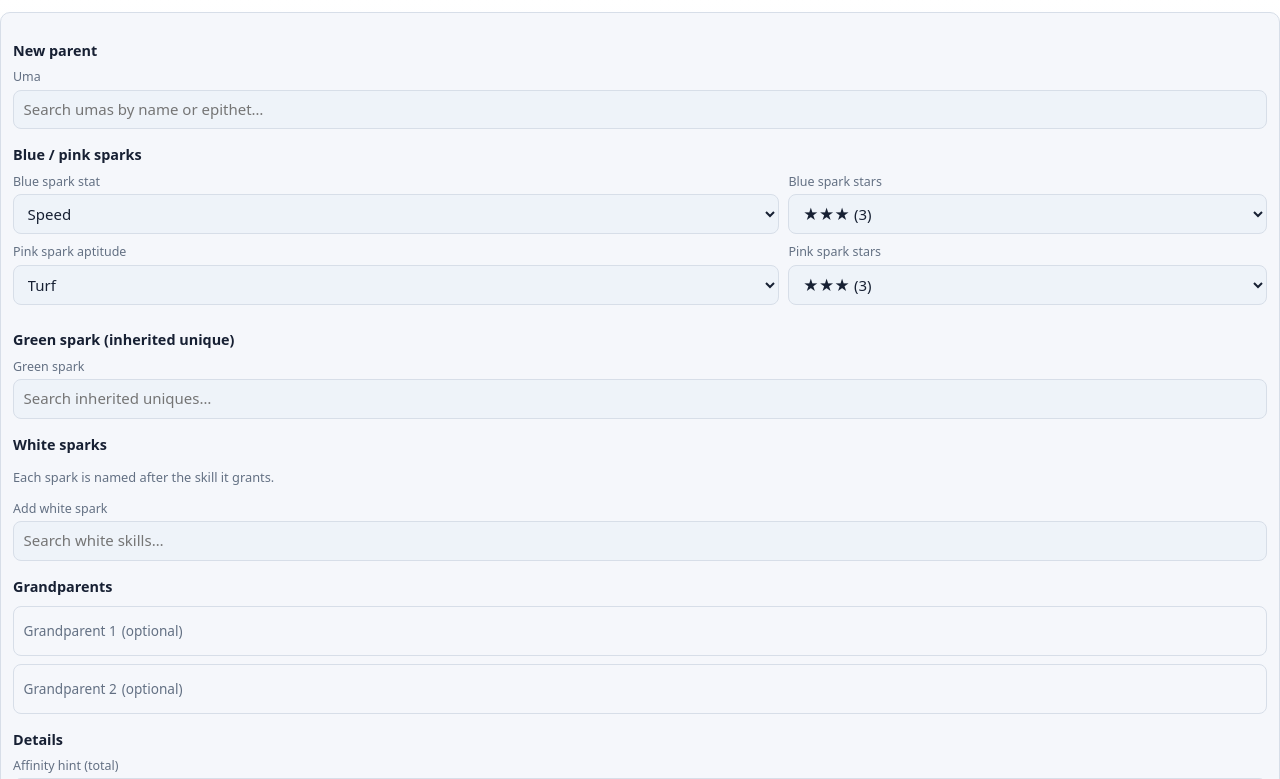
ParentForm — planning horizon › current (default): JP uma / white are absent, Global ones present (P4 sanity)
Type "jp-only" into the search field labelled "Uma" at (640, 109), box [13,90,1267,129]
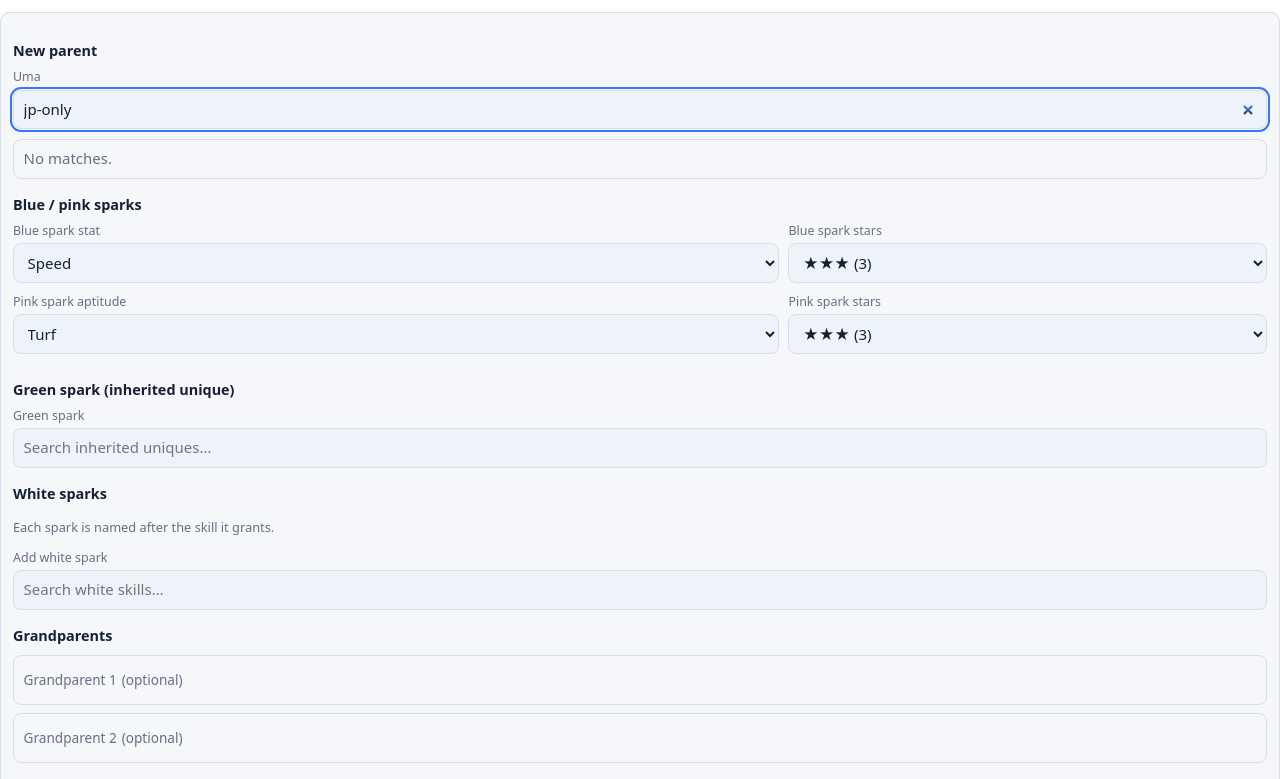
Expected: the list item "No matches." is shown, [24,148,112,168]
Replace the text in the search field labelled "Uma" with "suzuka" at (640, 109), box [13,90,1267,129]
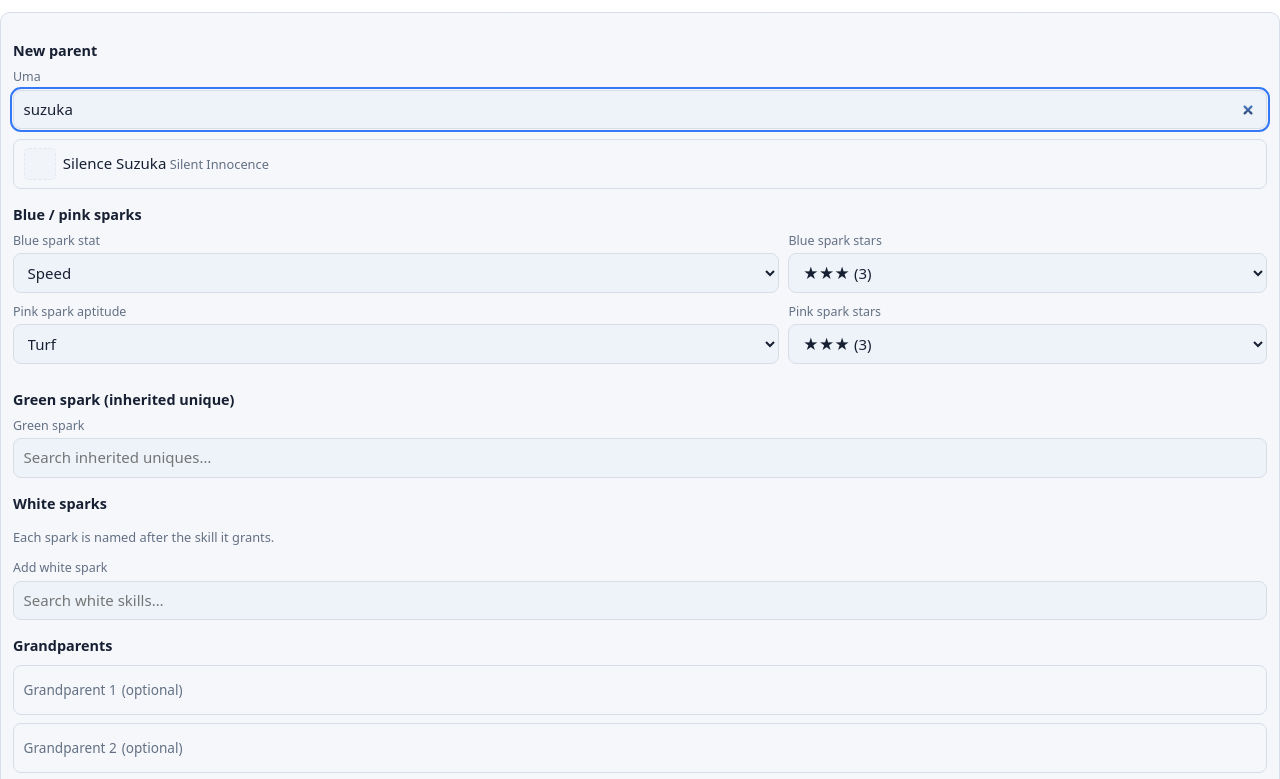
Expected: the button "Silence Suzuka Silent Innocence" is shown, [14,140,1266,188]
Type "jp-only" into the search field labelled "Add white spark" at (640, 600), box [13,580,1267,620]
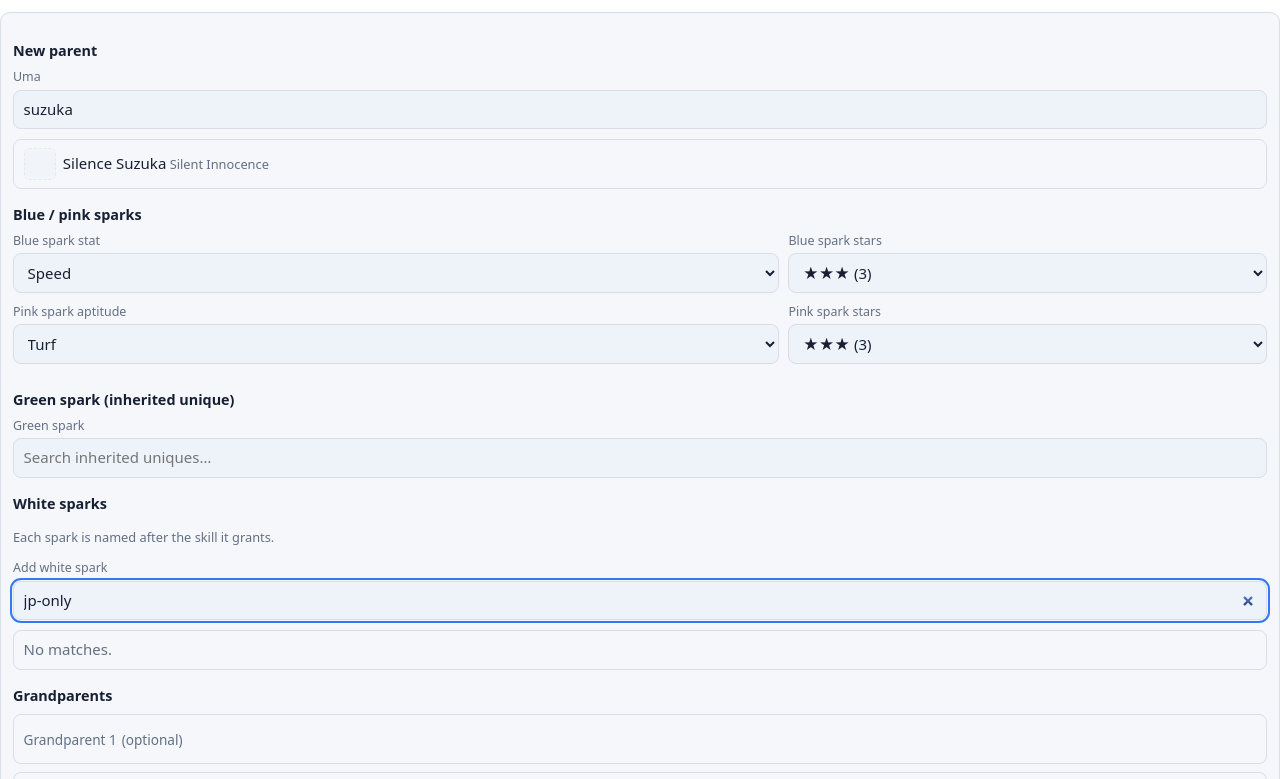
Expected: the list item "No matches." is shown, [24,639,112,659]
Replace the text in the search field labelled "Add white spark" with "corner" at (640, 600), box [13,580,1267,620]
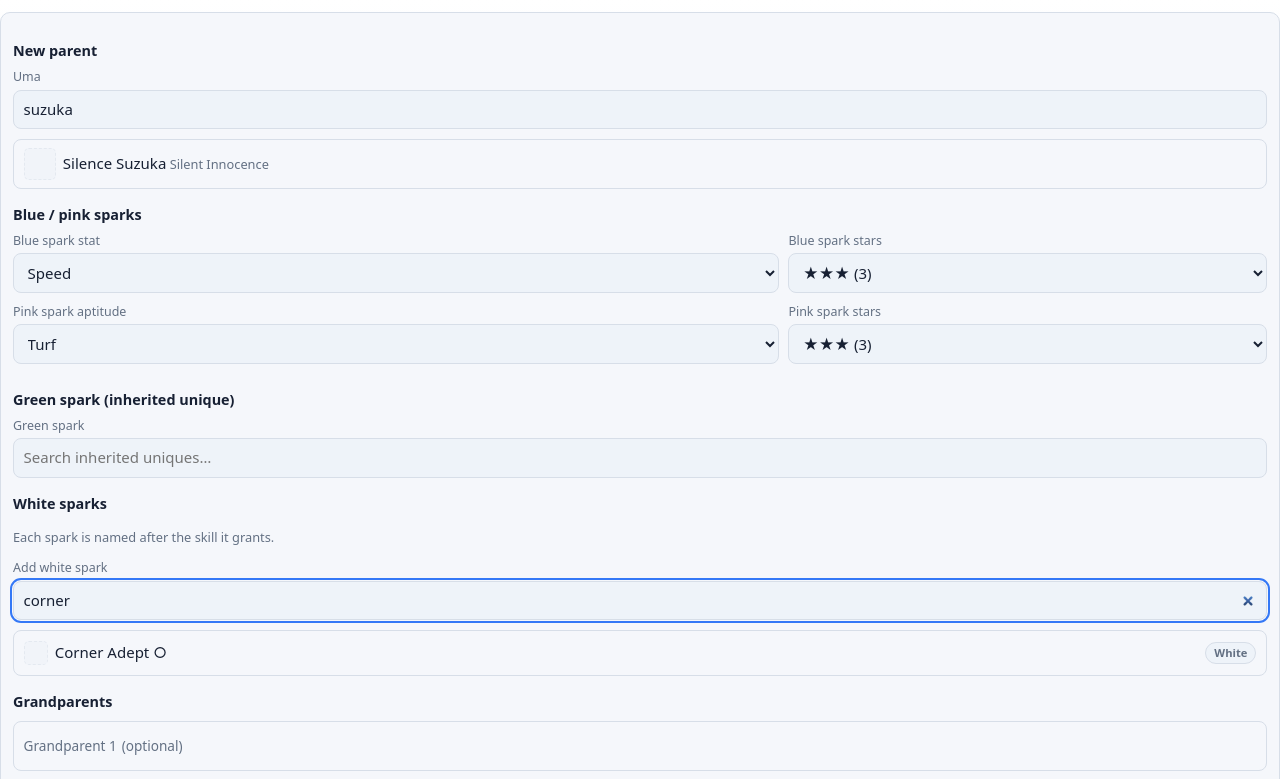
Expected: the button "Corner Adept ○ White" is shown, [14,631,1266,675]
